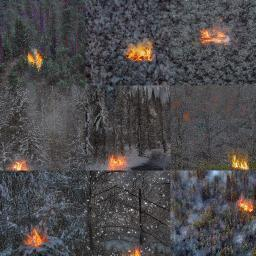Small fire: (197, 26, 238, 47), (125, 37, 155, 64), (23, 227, 46, 252), (25, 46, 46, 72), (229, 151, 252, 172), (235, 196, 255, 219), (105, 156, 130, 172), (10, 156, 29, 174), (121, 247, 144, 256)
